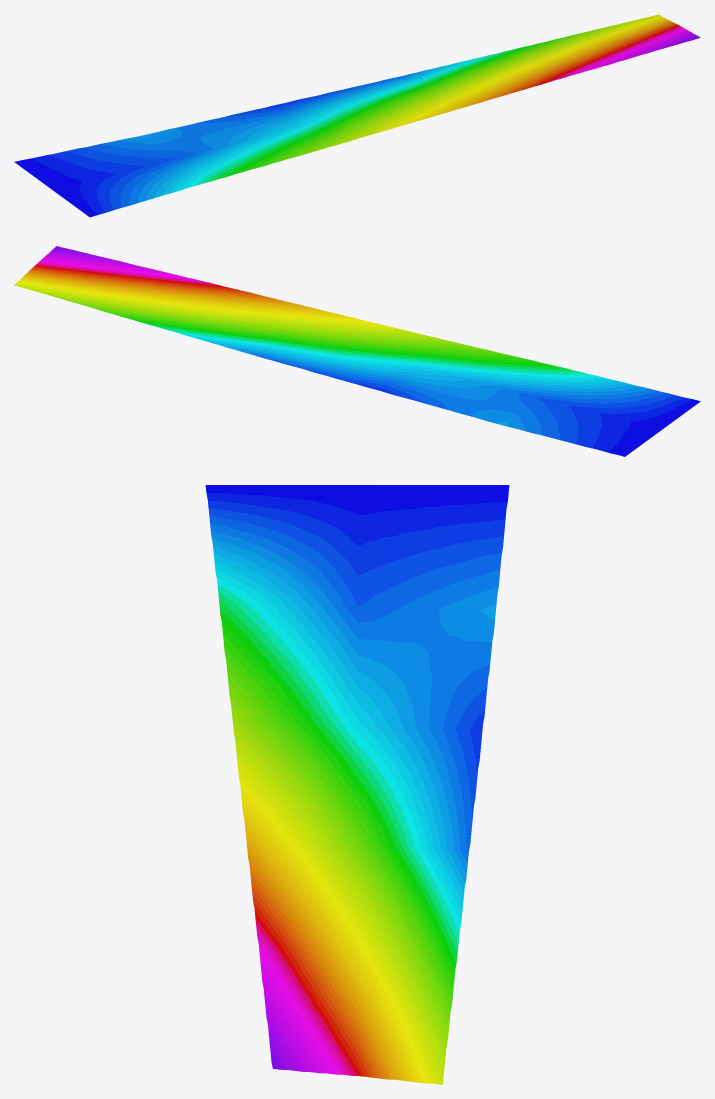
3 views of the same model, one above another, from view 1: azimuth 30°, elevation 25°; view 2: azimuth 150°, elevation 25°; view 3: azimuth 270°, elevation 25° (orthographic). The views are drawn at different scales.
Visible parts, largest first — view 1: Elements; view 2: Elements; view 3: Elements.
Boxes of the visible parts, x1,y1,x2,y2 form: Elements: (14, 14, 700, 217); Elements: (14, 246, 700, 456); Elements: (205, 485, 509, 1084).
Size of the model in its own units: 1 by 0.0244 by 0.2096.
1 material, 1 textured.
